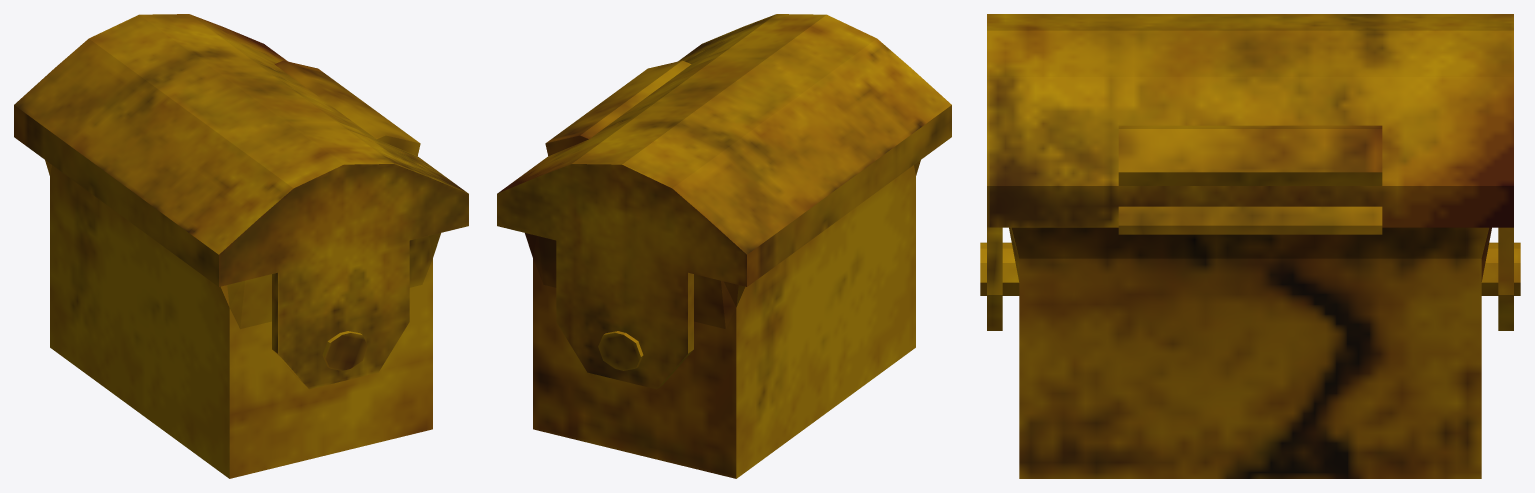
The model's file is trash_container_1.fbx.
The picture shows the model from 3 angles, left to right: view 1: azimuth 30°, elevation 25°; view 2: azimuth 150°, elevation 25°; view 3: azimuth 270°, elevation 25°; orthographic projection. The views are drawn at different scales.
Parts seen in each view (by area): view 1: Trash_Container_2_Opener, Trash_Container_2_Bin; view 2: Trash_Container_2_Opener, Trash_Container_2_Bin; view 3: Trash_Container_2_Opener, Trash_Container_2_Bin.
Part boxes in pixels (x1=…): Trash_Container_2_Opener: x1=14, y1=14, x2=468, y2=389; Trash_Container_2_Bin: x1=45, y1=160, x2=440, y2=478; Trash_Container_2_Opener: x1=497, y1=14, x2=951, y2=389; Trash_Container_2_Bin: x1=525, y1=160, x2=920, y2=478; Trash_Container_2_Opener: x1=987, y1=14, x2=1513, y2=330; Trash_Container_2_Bin: x1=980, y1=227, x2=1520, y2=478.
Bounding box in the file's own units: 255 × 278 × 354.
